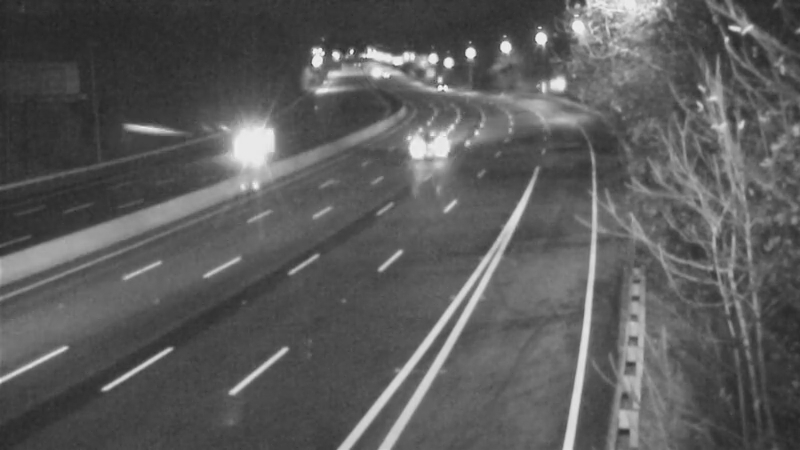vehicle: (200, 112, 280, 192), (418, 61, 468, 111), (415, 115, 465, 165)
